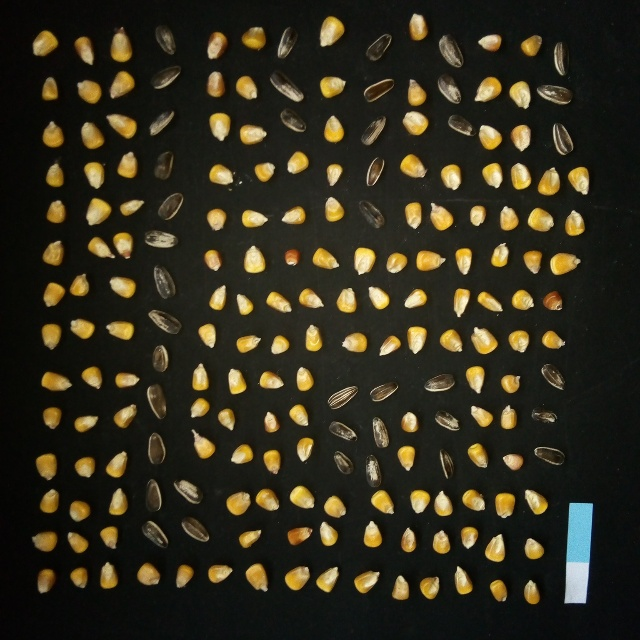escala: (564, 502, 593, 603)
girasol: (268, 69, 308, 103), (357, 74, 396, 107), (433, 31, 466, 70), (148, 262, 177, 301), (433, 72, 465, 107), (354, 195, 385, 230), (137, 519, 172, 550), (155, 189, 186, 223), (144, 382, 170, 422), (178, 513, 211, 544), (140, 475, 165, 515), (146, 308, 183, 335), (146, 108, 178, 139), (357, 116, 389, 147), (327, 382, 359, 413), (171, 476, 205, 505), (537, 361, 568, 392), (275, 107, 309, 135), (144, 430, 169, 468), (535, 83, 578, 105), (151, 64, 183, 93), (143, 229, 183, 252), (366, 29, 393, 63), (152, 22, 178, 57), (362, 154, 388, 189), (367, 414, 392, 450), (531, 443, 568, 467), (443, 113, 477, 139), (367, 379, 401, 405), (549, 120, 574, 155), (325, 418, 360, 443), (325, 449, 356, 477), (551, 39, 573, 78), (276, 24, 299, 61), (361, 453, 383, 490), (431, 408, 462, 433), (152, 148, 176, 180), (422, 373, 456, 395), (436, 446, 456, 482), (149, 343, 171, 373), (527, 405, 560, 425)
maiz: (316, 12, 348, 51), (103, 112, 139, 141), (469, 325, 500, 357), (109, 25, 135, 63), (242, 560, 271, 594), (83, 196, 114, 227), (281, 561, 312, 592), (108, 69, 138, 101), (31, 450, 61, 482), (396, 152, 429, 181), (560, 208, 589, 241), (102, 447, 131, 480), (204, 110, 232, 144), (240, 244, 268, 278), (549, 249, 583, 277), (26, 527, 60, 555), (30, 28, 61, 58), (76, 119, 106, 150), (223, 488, 253, 519), (458, 484, 488, 515), (351, 566, 383, 595), (316, 73, 349, 101), (189, 429, 217, 462), (105, 274, 139, 301), (483, 531, 509, 566), (111, 401, 141, 431), (253, 484, 283, 514), (79, 160, 108, 191), (474, 74, 503, 105), (565, 165, 593, 197), (359, 519, 387, 551), (204, 29, 231, 62), (350, 244, 377, 277), (461, 363, 488, 396), (104, 484, 130, 518), (507, 77, 532, 112), (38, 368, 73, 393), (364, 282, 393, 312), (313, 563, 342, 593), (399, 110, 431, 137), (115, 148, 141, 181), (536, 164, 562, 197), (414, 247, 447, 273), (223, 364, 249, 397), (403, 323, 429, 356), (204, 162, 238, 187), (240, 24, 269, 53), (38, 280, 67, 309), (520, 486, 549, 515), (39, 119, 67, 149), (39, 238, 67, 268), (462, 441, 490, 471), (334, 284, 361, 315), (262, 289, 294, 315), (507, 160, 533, 192), (429, 199, 455, 231), (520, 246, 546, 278), (451, 246, 476, 279), (450, 563, 475, 596), (401, 200, 425, 234), (525, 206, 554, 234), (289, 483, 317, 512), (367, 488, 396, 516), (284, 148, 311, 178), (479, 160, 506, 190), (310, 246, 341, 272), (72, 34, 96, 67), (73, 78, 102, 105), (234, 73, 261, 102), (30, 566, 57, 595), (134, 561, 163, 588), (110, 231, 136, 261), (436, 328, 466, 354), (491, 490, 517, 520), (205, 561, 237, 585), (41, 161, 68, 189), (518, 31, 545, 59), (477, 288, 505, 315), (37, 404, 65, 431), (322, 114, 348, 143), (228, 441, 254, 470), (204, 205, 229, 235), (323, 195, 348, 225), (507, 327, 532, 357), (80, 359, 102, 393), (238, 122, 269, 146), (488, 239, 511, 271), (39, 321, 62, 353), (104, 319, 136, 342), (394, 442, 417, 474), (397, 525, 420, 557), (35, 488, 62, 515), (199, 245, 225, 273), (315, 520, 341, 548), (406, 10, 428, 43), (449, 287, 471, 320), (42, 197, 67, 226), (195, 321, 220, 350), (539, 327, 568, 352), (38, 73, 62, 103), (67, 317, 97, 341), (187, 362, 211, 392), (204, 69, 227, 100), (509, 122, 532, 153), (98, 560, 121, 591), (283, 525, 314, 548), (239, 207, 271, 229), (67, 497, 93, 524), (286, 402, 312, 429), (519, 536, 546, 562), (257, 367, 285, 392), (406, 488, 431, 516), (418, 573, 443, 601), (118, 194, 147, 218), (279, 204, 308, 228), (403, 77, 427, 106), (438, 162, 462, 191), (496, 203, 520, 232), (234, 331, 263, 355), (340, 331, 369, 355), (170, 562, 194, 591), (293, 434, 316, 464), (110, 368, 141, 390), (302, 322, 324, 353), (209, 280, 229, 314), (71, 454, 97, 480), (384, 249, 409, 276), (67, 563, 92, 590), (185, 395, 212, 420), (377, 332, 402, 359), (478, 123, 502, 151), (323, 160, 346, 189), (497, 372, 526, 395), (433, 488, 454, 519), (252, 159, 278, 184), (67, 272, 92, 298), (541, 289, 566, 315), (64, 530, 90, 555), (322, 494, 348, 519), (467, 403, 493, 428), (485, 577, 510, 603), (233, 291, 257, 318), (466, 202, 490, 229), (216, 406, 240, 433), (259, 408, 283, 435), (297, 286, 325, 309), (236, 527, 264, 550), (457, 524, 480, 552), (521, 578, 544, 606), (389, 573, 410, 603), (510, 286, 535, 311), (260, 448, 285, 473), (86, 236, 112, 260), (98, 524, 122, 550), (71, 413, 99, 435), (294, 365, 316, 393), (474, 32, 503, 53), (403, 287, 429, 310), (499, 403, 519, 432), (269, 333, 292, 357), (499, 452, 525, 473), (398, 411, 421, 434), (431, 528, 452, 553), (282, 245, 302, 269)
